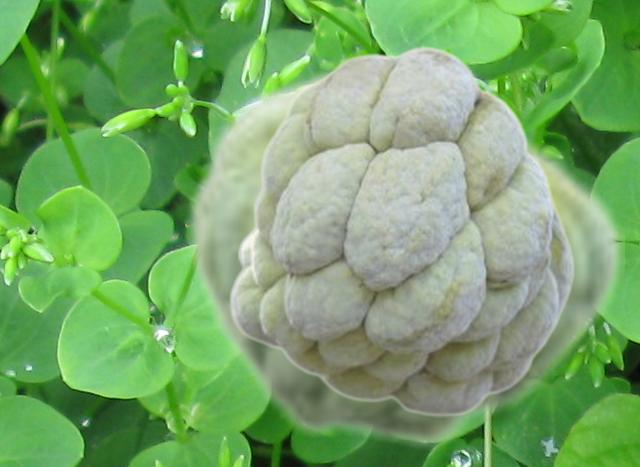atis: (183, 62, 623, 452), (228, 45, 574, 416)
